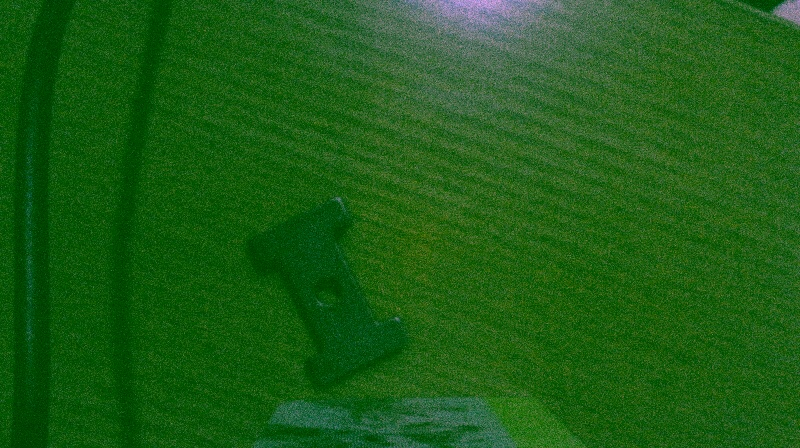O002: (243, 193, 408, 389)
